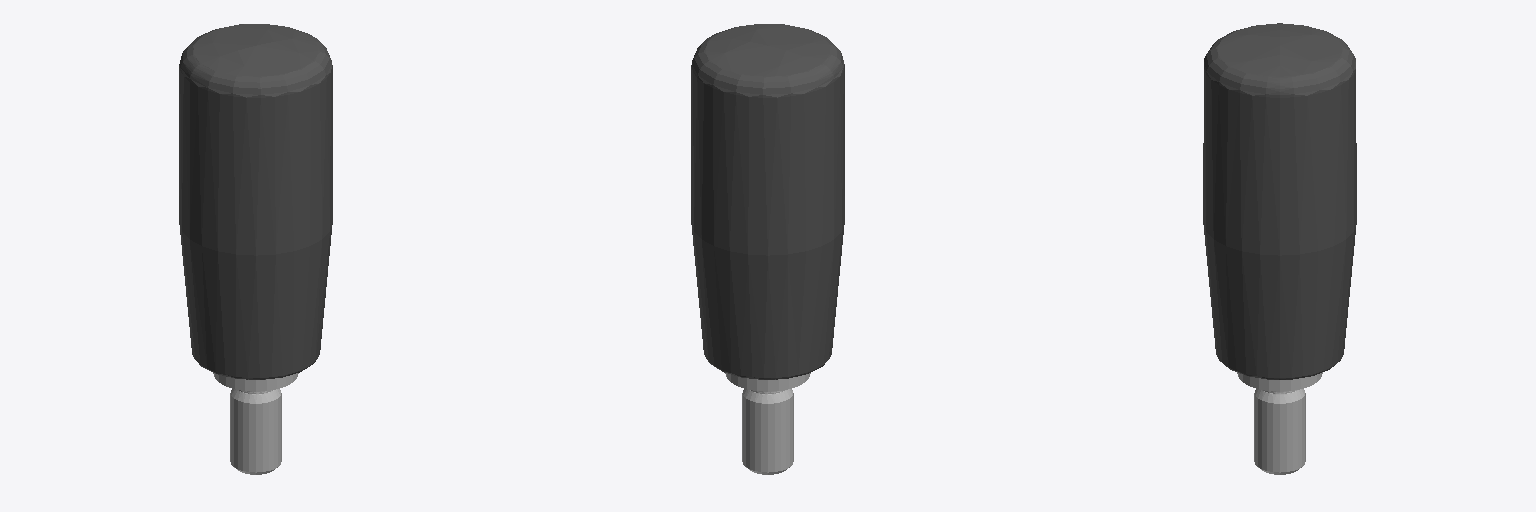
The model's file is ganter_gn_598_-ku-18-m6.obj.
The picture shows the model from 3 angles: view 1: azimuth 30°, elevation 25°; view 2: azimuth 150°, elevation 25°; view 3: azimuth 270°, elevation 25°; orthographic projection.
Visible parts, largest first — view 1: ganter_gn_598_-ku-18-m6_1; view 2: ganter_gn_598_-ku-18-m6_1; view 3: ganter_gn_598_-ku-18-m6_1.
Part boxes in pixels (x1,y1,x2,y2): ganter_gn_598_-ku-18-m6_1: (179,24,332,474); ganter_gn_598_-ku-18-m6_1: (691,24,844,474); ganter_gn_598_-ku-18-m6_1: (1203,23,1356,474).
Bounding box in the file's own units: 18 × 54.5 × 18.